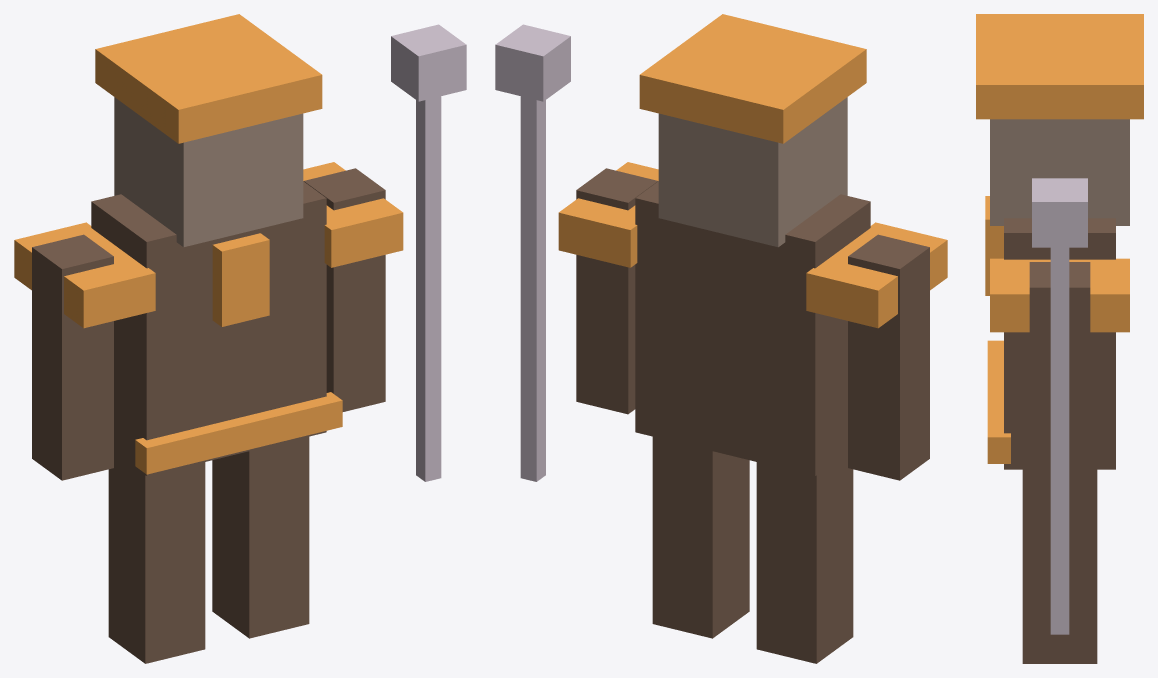
File: 01_tovin_voidrill_specialist_at_lexicon.glb
3 views of the same model, side by side, from view 1: azimuth 30°, elevation 25°; view 2: azimuth 150°, elevation 25°; view 3: azimuth 270°, elevation 25° (orthographic).
Parts seen in each view (by area): view 1: Tovin Voidrill, Specialist at Lexicon; view 2: Tovin Voidrill, Specialist at Lexicon; view 3: Tovin Voidrill, Specialist at Lexicon.
Boxes of the visible parts, x1,y1,x2,y2 form: Tovin Voidrill, Specialist at Lexicon: [14, 14, 466, 663]; Tovin Voidrill, Specialist at Lexicon: [495, 14, 947, 663]; Tovin Voidrill, Specialist at Lexicon: [976, 14, 1143, 663].
Size of the model in its own units: 1.07 by 1.43 by 0.379.
